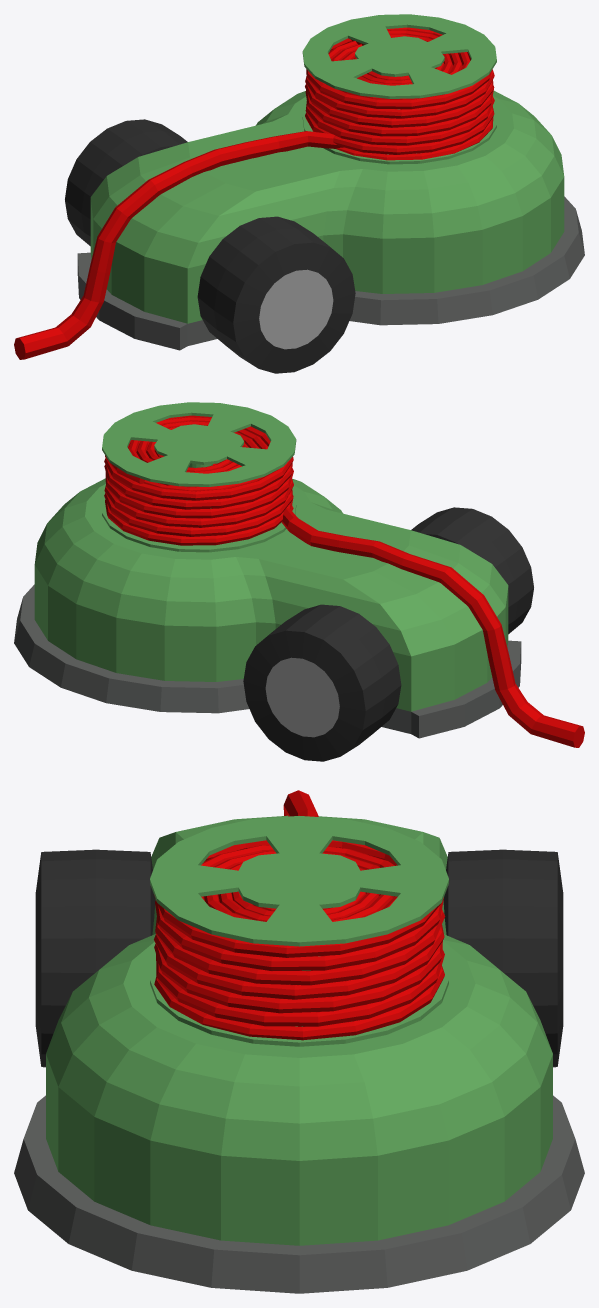
The model's file is GrassCutter1.fbx.
3 views of the same model, one above another, from view 1: azimuth 30°, elevation 25°; view 2: azimuth 150°, elevation 25°; view 3: azimuth 270°, elevation 25° (orthographic). The views are drawn at different scales.
Parts seen in each view (by area): view 1: GrassCutter2; view 2: GrassCutter2; view 3: GrassCutter2.
Boxes of the visible parts, x1=… form: GrassCutter2: x1=14, y1=14, x2=584, y2=373; GrassCutter2: x1=14, y1=402, x2=584, y2=761; GrassCutter2: x1=14, y1=790, x2=584, y2=1293.
Bounding box in the file's own units: 0.0093 × 0.00348 × 0.00554.
